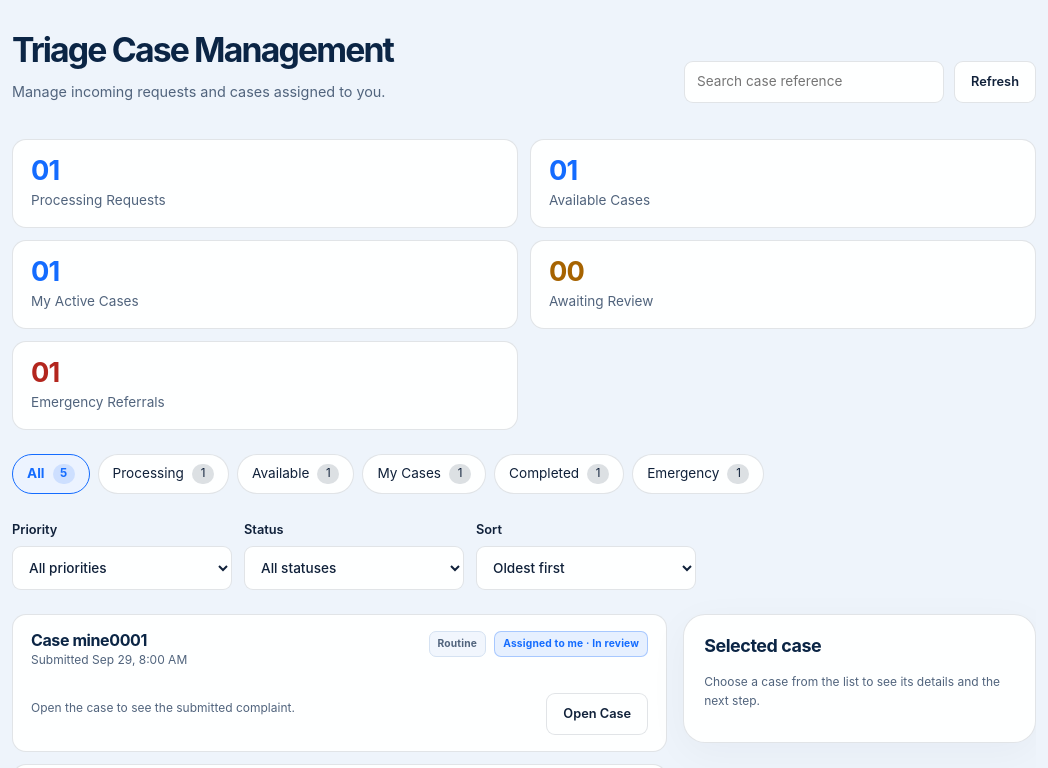
Test case: CasesPage › shows a newly received case in Processing without clinical or claim controls
Click the tab "Processing 1": (163, 474) x1=98 y1=454 x2=229 y2=494
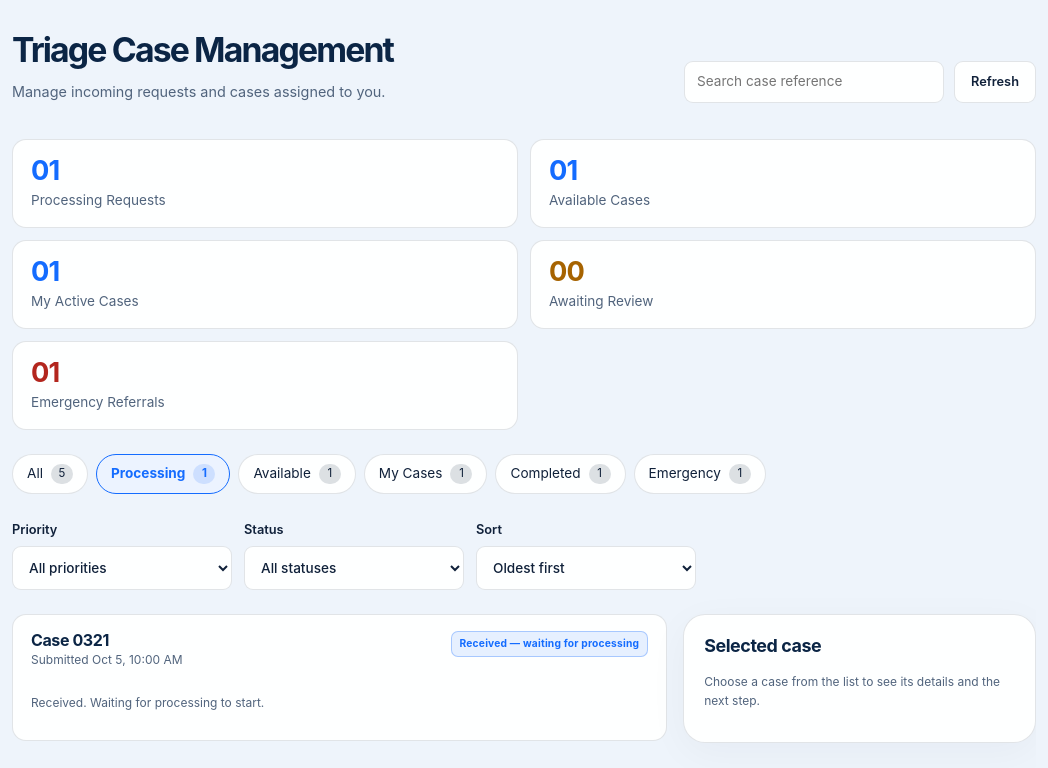
Check: the heading "Case 0321" is shown, box x1=31 y1=630 x2=109 y2=650
Check: the button "Open Case" is gone
Check: the text "Routine" is gone
